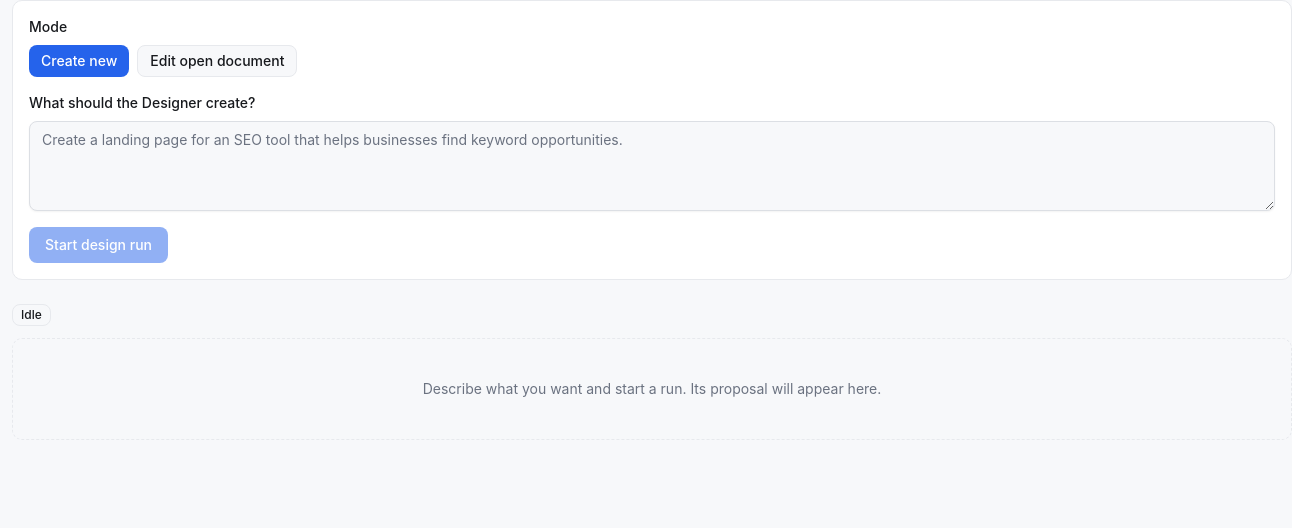
it: Designer › never lets a stale restore response overwrite a newer submission
Replace the text in the text box labelled "What should the Designer create?" with "A fresh brief": [652, 166] box [29,121,1275,211]
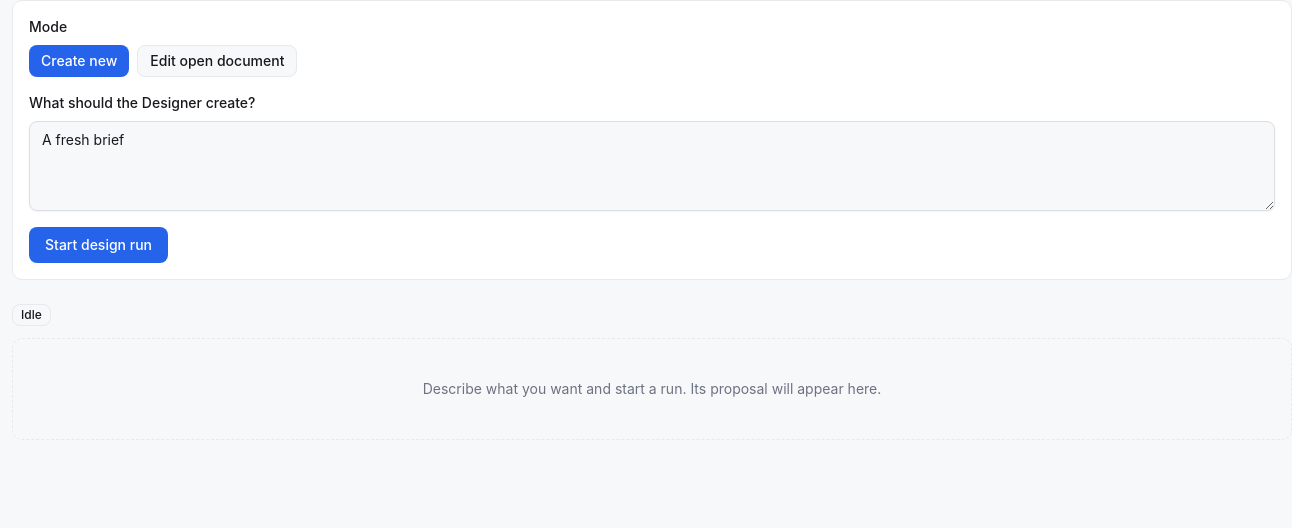
Click the button "Start design run": [98, 245] box [29,227,168,263]
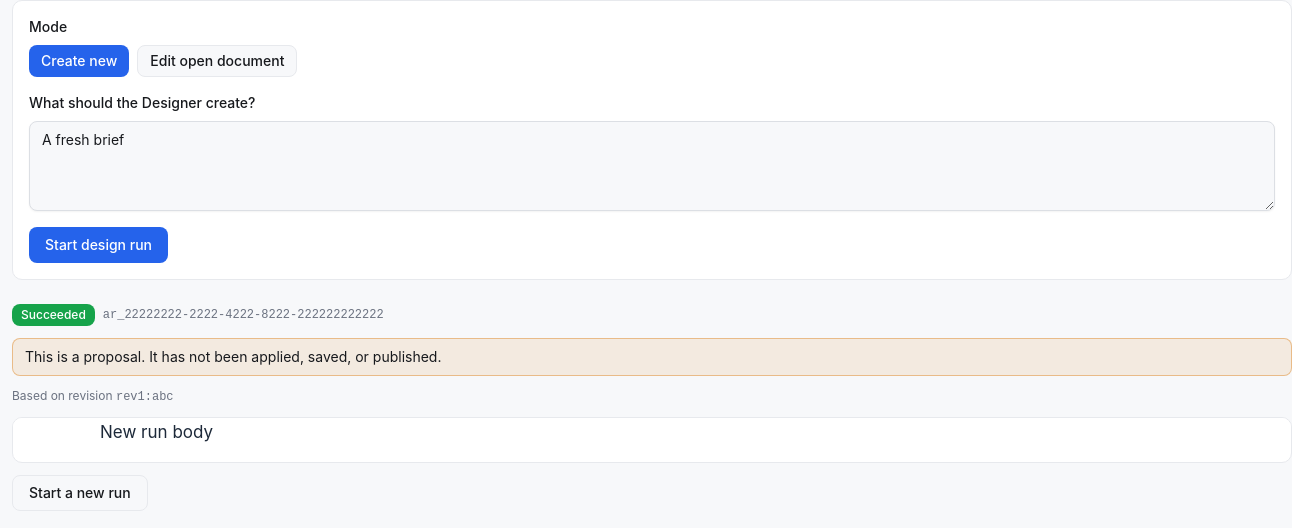
Now the text "New run body" is shown, box [100,422,213,442]
